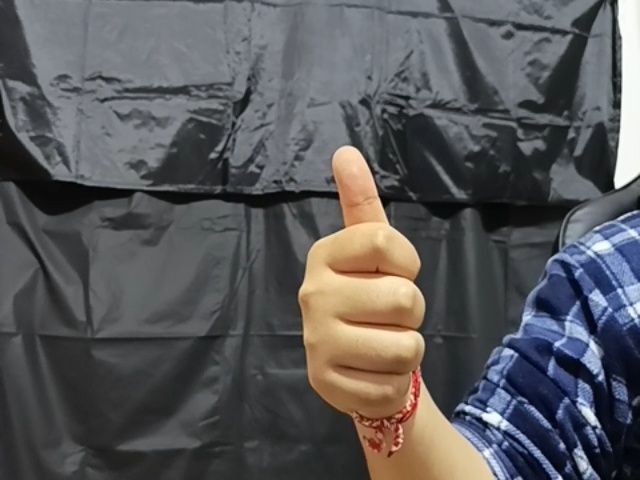A: (289, 141, 425, 412)
